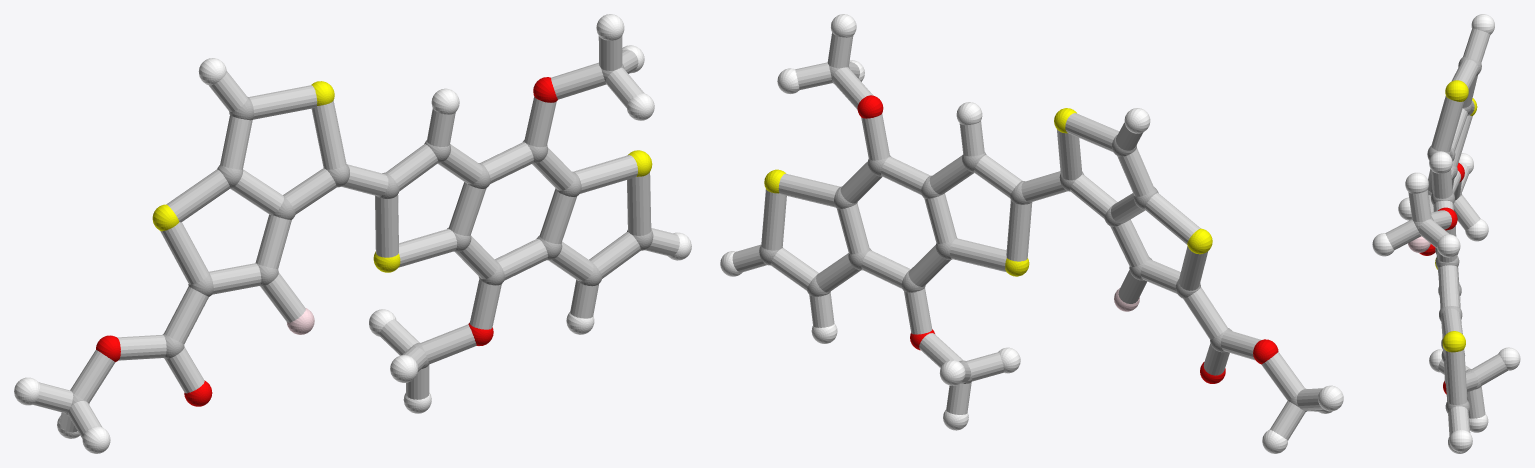
Rendered from color.glb.
3 views of the same model, side by side, from view 1: azimuth 30°, elevation 25°; view 2: azimuth 150°, elevation 25°; view 3: azimuth 270°, elevation 25° (orthographic). The views are drawn at different scales.
Parts seen in each view (by area): view 1: grp15205, grp8689, grp1, grp13395, grp7241; view 2: grp15205, grp8689, grp1, grp7241, grp13395; view 3: grp15205, grp8689, grp1, grp7241, grp13395, grp14843.
Part boxes in pixels (<box>): grp15205: <box>33,36,679,438</box>; grp8689: <box>14,14,691,453</box>; grp1: <box>65,64,653,416</box>; grp13395: <box>96,77,557,406</box>; grp7241: <box>152,81,652,272</box>; grp15205: <box>732,32,1325,440</box>; grp8689: <box>720,14,1343,453</box>; grp1: <box>759,65,1307,411</box>; grp7241: <box>764,108,1212,276</box>; grp13395: <box>857,95,1278,383</box>; grp15205: <box>1385,28,1507,437</box>; grp8689: <box>1372,14,1520,453</box>; grp1: <box>1413,57,1481,414</box>; grp7241: <box>1435,80,1477,352</box>; grp13395: <box>1419,163,1464,394</box>; grp14843: <box>1408,236,1430,252</box>.
Bounding box in the file's own units: 16.6 × 9.41 × 3.77.
